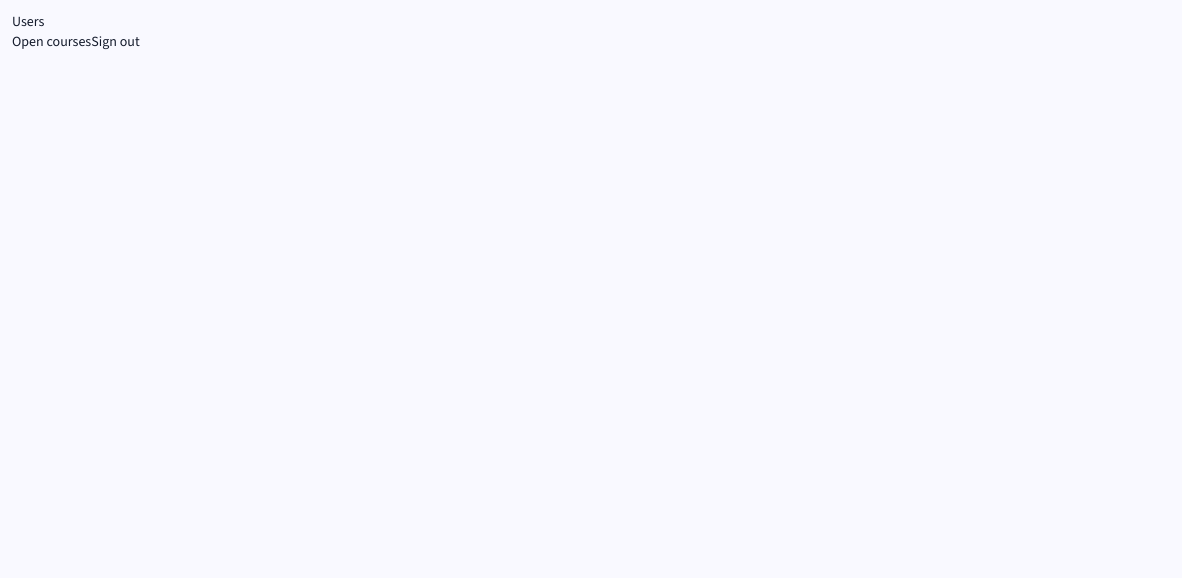
it: session ended inside the app › finds a session ended elsewhere on the next page change
Expected: the heading "Users" is shown, [12,12,44,31]
Click the link "Open courses".
click(52, 42)  # box [12,32,91,51]
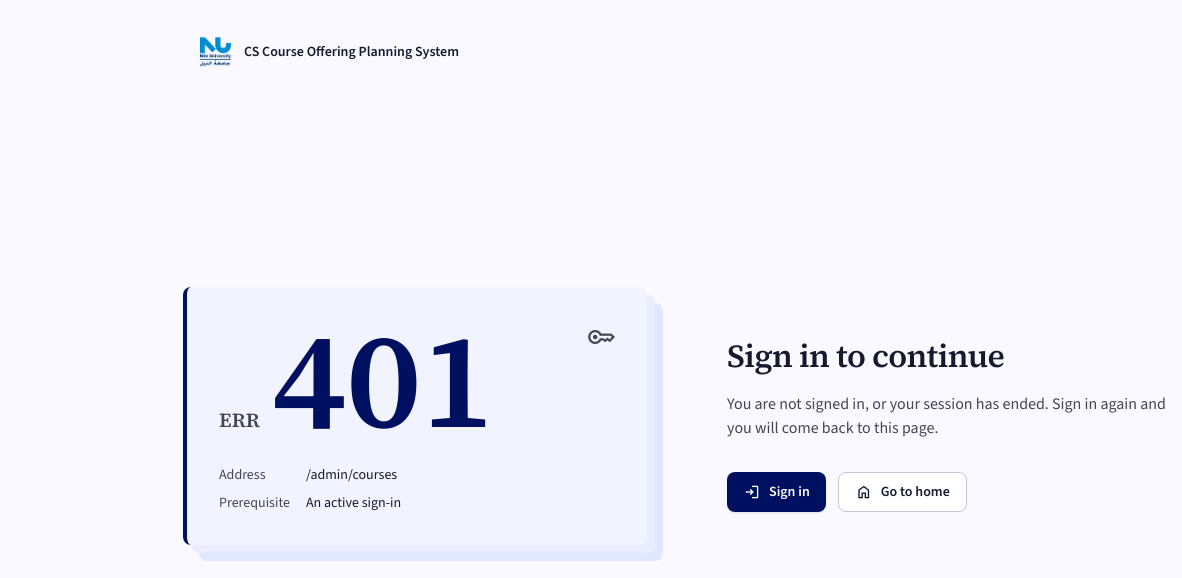
Expected: the heading "Sign in to continue" is shown, [727,334,1004,378]
